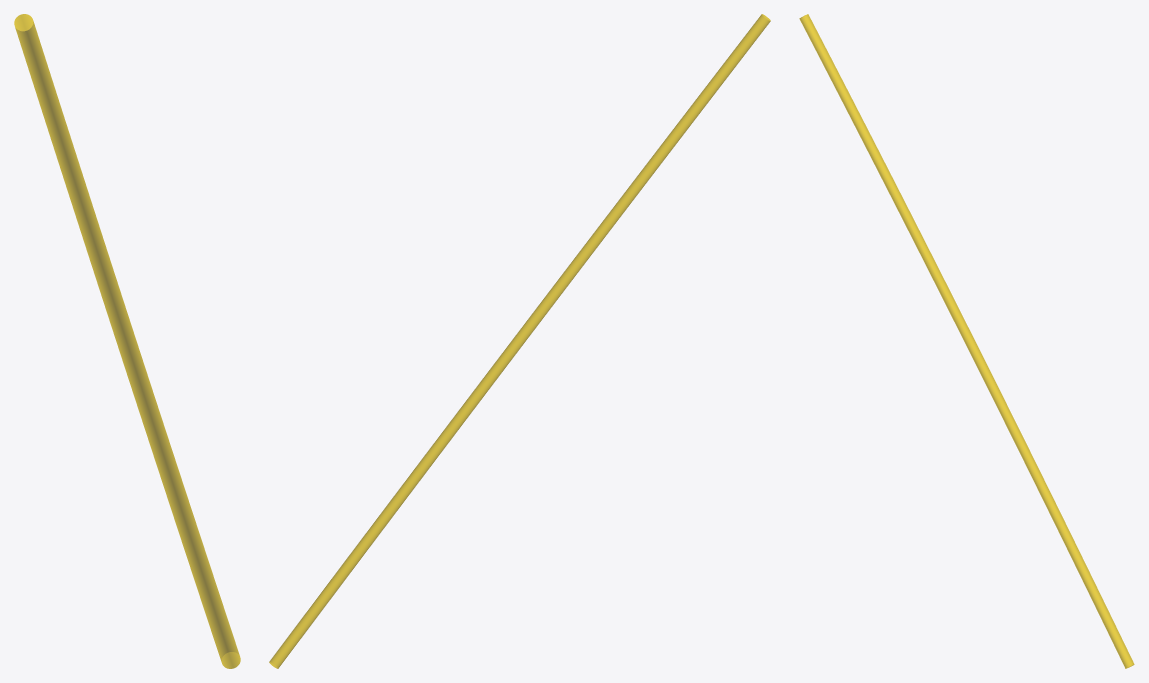
File: Event_27938768_track_11.fbx
3 views of the same model, side by side, from view 1: azimuth 30°, elevation 25°; view 2: azimuth 150°, elevation 25°; view 3: azimuth 270°, elevation 25° (orthographic). The views are drawn at different scales.
Parts seen in each view (by area): view 1: Model; view 2: Model; view 3: Model.
Part boxes in pixels (x1,y1,x2,y2): Model: [14, 14, 240, 668]; Model: [269, 14, 770, 668]; Model: [799, 14, 1134, 668].
Size of the model in its own units: 1.27 by 2.28 by 1.32.
